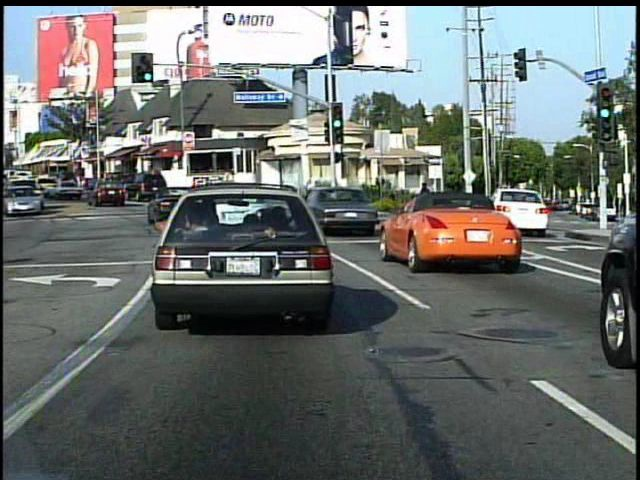person: (418, 181, 434, 220)
